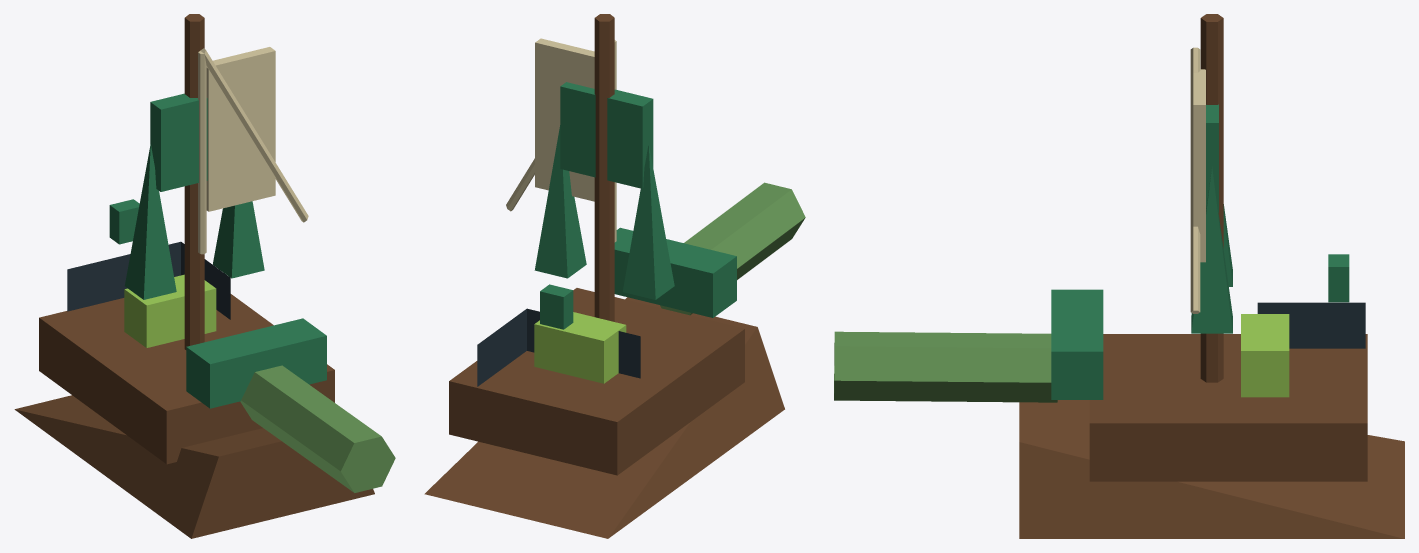
The model's file is light-warship.obj.
3 views of the same model, side by side, from view 1: azimuth 30°, elevation 25°; view 2: azimuth 150°, elevation 25°; view 3: azimuth 270°, elevation 25° (orthographic). The views are drawn at different scales.
Visible parts, largest first — view 1: ship; view 2: ship; view 3: ship.
Part boxes in pixels (bbox=[...]): ship: bbox=[14, 14, 395, 538]; ship: bbox=[424, 14, 805, 538]; ship: bbox=[834, 14, 1404, 538].
Size of the model in its own units: 1.08 by 2.26 by 2.48.
